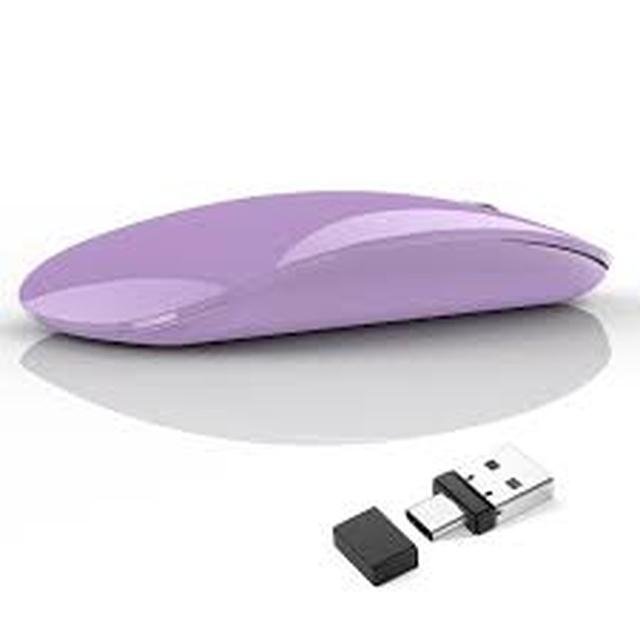mouse: (15, 154, 617, 372)
